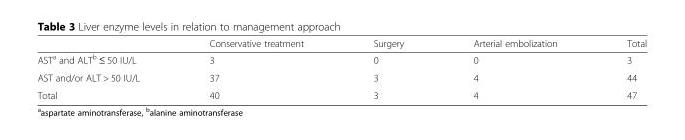table: (36, 37, 646, 100)
table column: (173, 37, 337, 100), (437, 37, 591, 100), (36, 37, 173, 100), (337, 37, 437, 100), (591, 37, 646, 100)
table column header: (36, 37, 646, 50)
table row: (36, 50, 646, 68), (36, 68, 646, 86), (36, 86, 646, 100), (36, 37, 646, 50)
